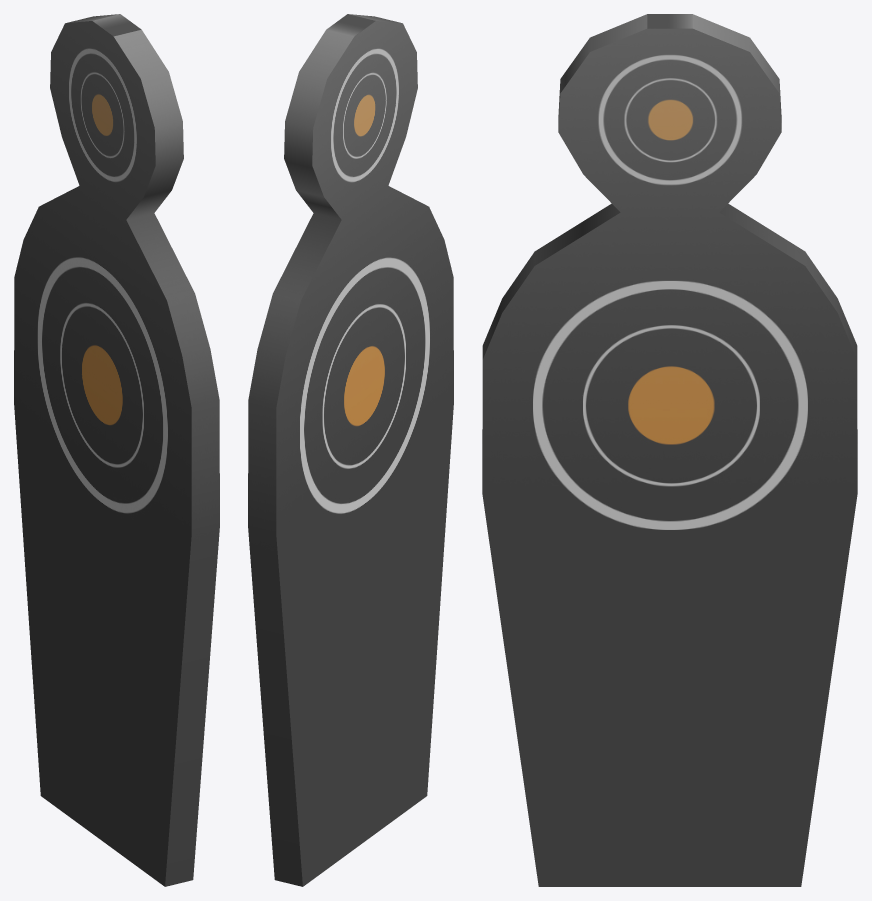
The model's file is Target_Dummy.FBX.
3 views of the same model, side by side, from view 1: azimuth 30°, elevation 25°; view 2: azimuth 150°, elevation 25°; view 3: azimuth 270°, elevation 25° (orthographic). The views are drawn at different scales.
Visible parts, largest first — view 1: Box001; view 2: Box001; view 3: Box001.
Part boxes in pixels (x1,y1,x2,y2): Box001: (14,14,219,886); Box001: (248,14,453,886); Box001: (482,14,857,886).
Bounding box in the file's own units: 1.35 × 37.15 × 14.72.
